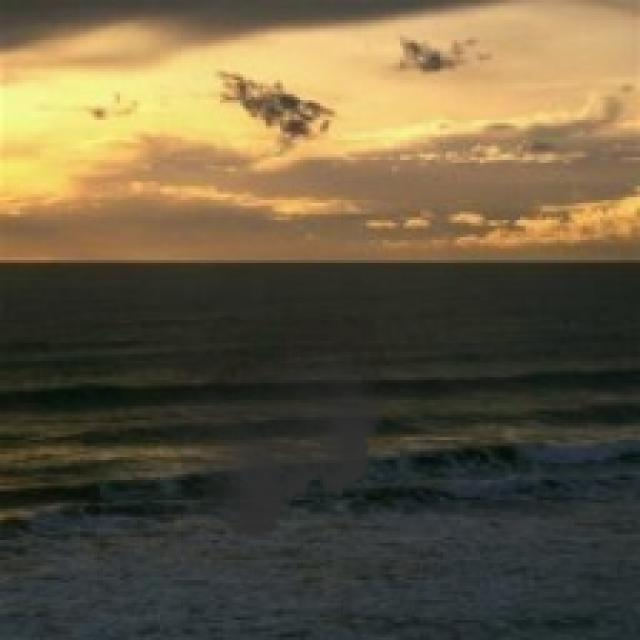smoke: (148, 300, 392, 549)
